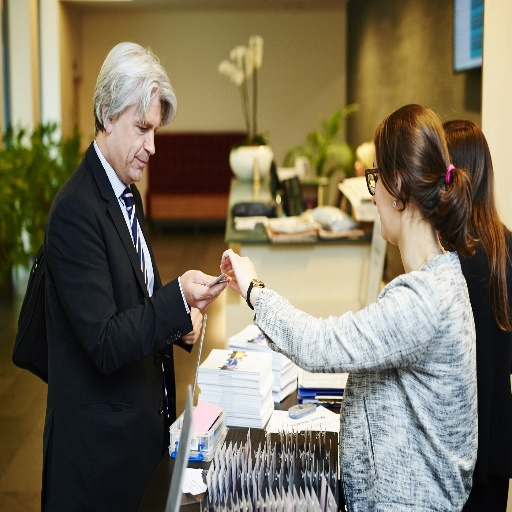hand: (174, 267, 225, 322), (220, 247, 258, 300), (180, 305, 204, 346)
